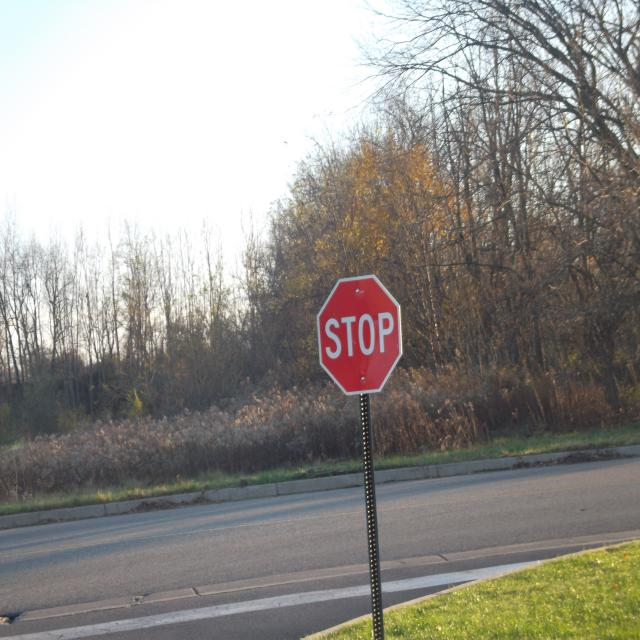stop: (313, 275, 406, 399)
